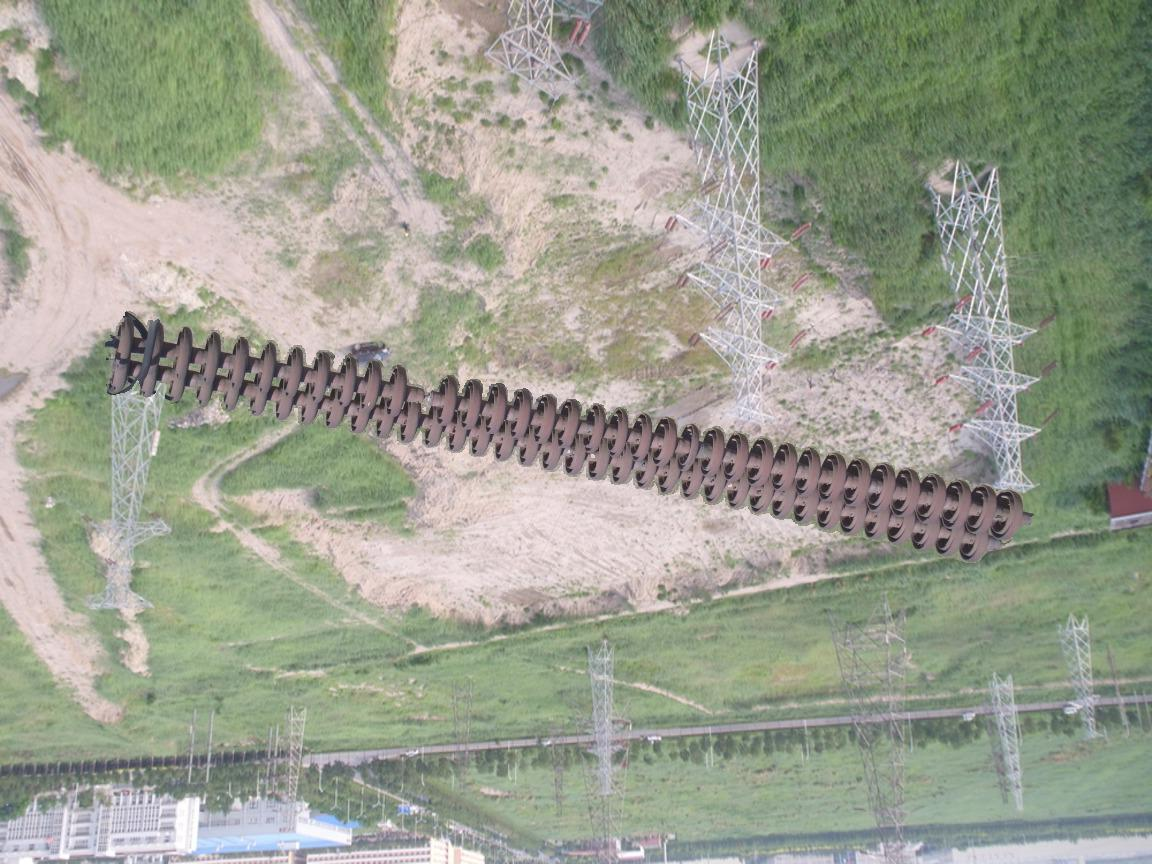insulator: (106, 315, 1035, 564)
insulator_stringdrop: (380, 361, 462, 429)
